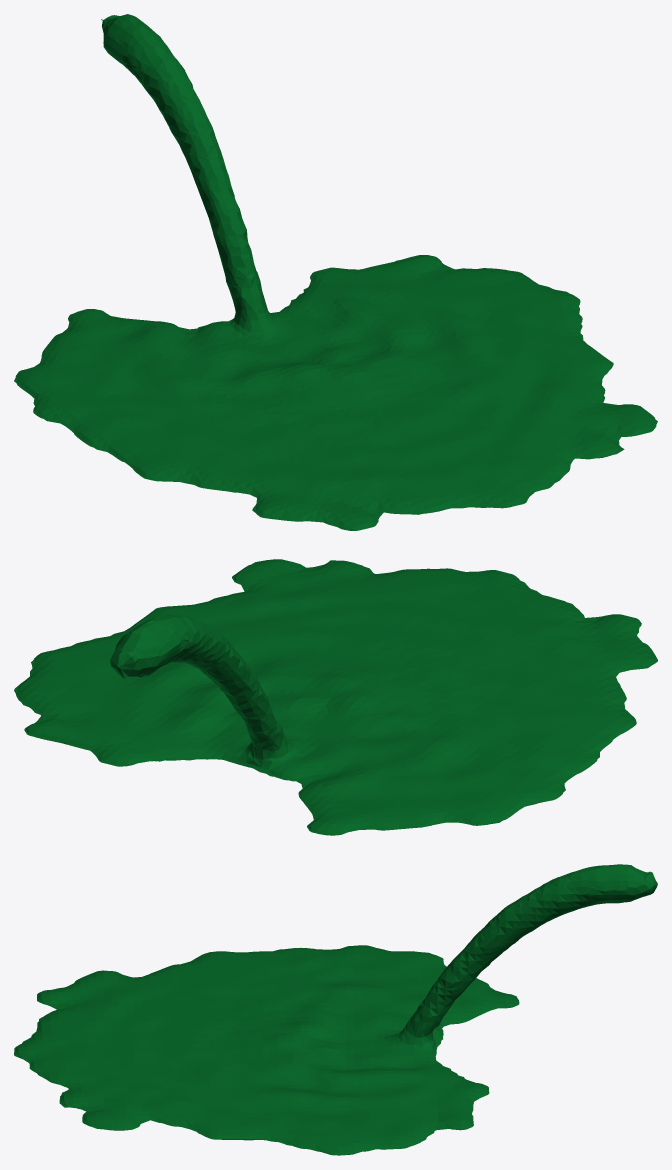
File: fluid_17.fbx
The picture shows the model from 3 angles, top to bottom: view 1: azimuth 30°, elevation 25°; view 2: azimuth 150°, elevation 25°; view 3: azimuth 270°, elevation 25°; orthographic projection. The views are drawn at different scales.
Parts seen in each view (by area): view 1: Cube; view 2: Cube; view 3: Cube.
Boxes of the visible parts, bbox=[...] form: Cube: bbox=[14, 14, 657, 530]; Cube: bbox=[14, 559, 657, 835]; Cube: bbox=[14, 864, 657, 1155].
Size of the model in its own units: 430 by 177 by 557.
